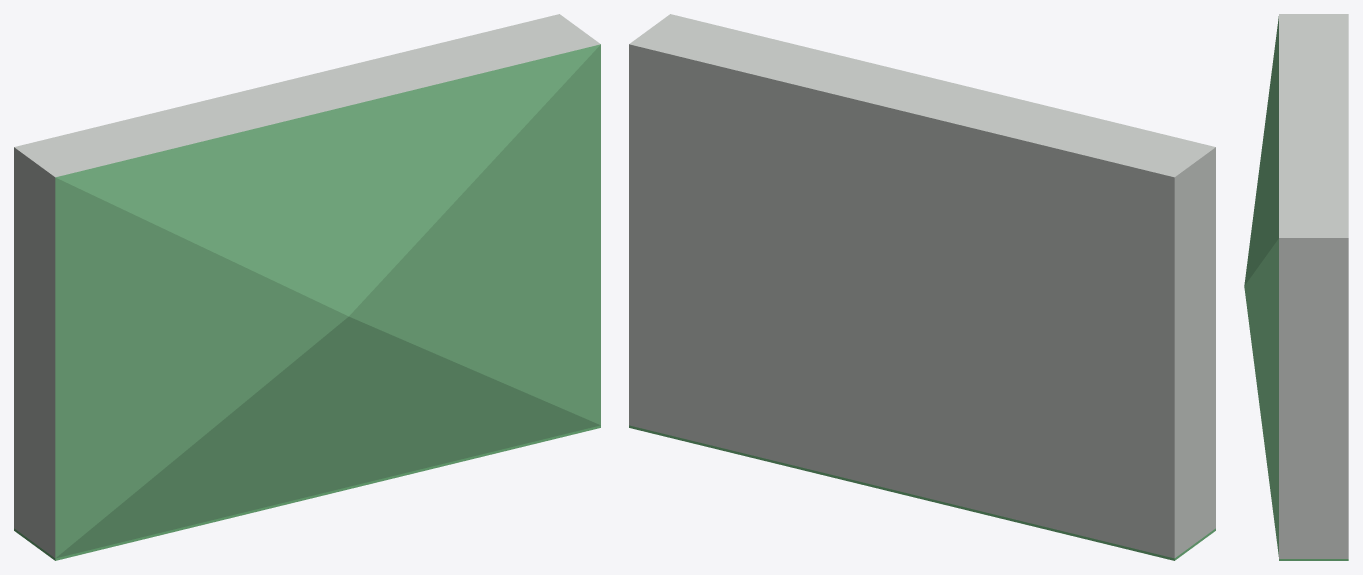
Rendered from gaia_synthesis_vertical_farm.glb.
The picture shows the model from 3 angles, left to right: view 1: azimuth 30°, elevation 25°; view 2: azimuth 150°, elevation 25°; view 3: azimuth 270°, elevation 25°; orthographic projection. The views are drawn at different scales.
Visible parts, largest first — view 1: greenhouse_roof, main, living_wall; view 2: main, living_wall; view 3: main, greenhouse_roof.
Part boxes in pixels (<box>): greenhouse_roof: <box>55,44,600,558</box>; main: <box>14,14,600,557</box>; living_wall: <box>14,425,600,560</box>; main: <box>629,14,1215,558</box>; living_wall: <box>629,425,1215,560</box>; main: <box>1279,14,1348,558</box>; greenhouse_roof: <box>1244,16,1278,556</box>.
Size of the model in its own units: 91.4 by 61.4 by 18.
